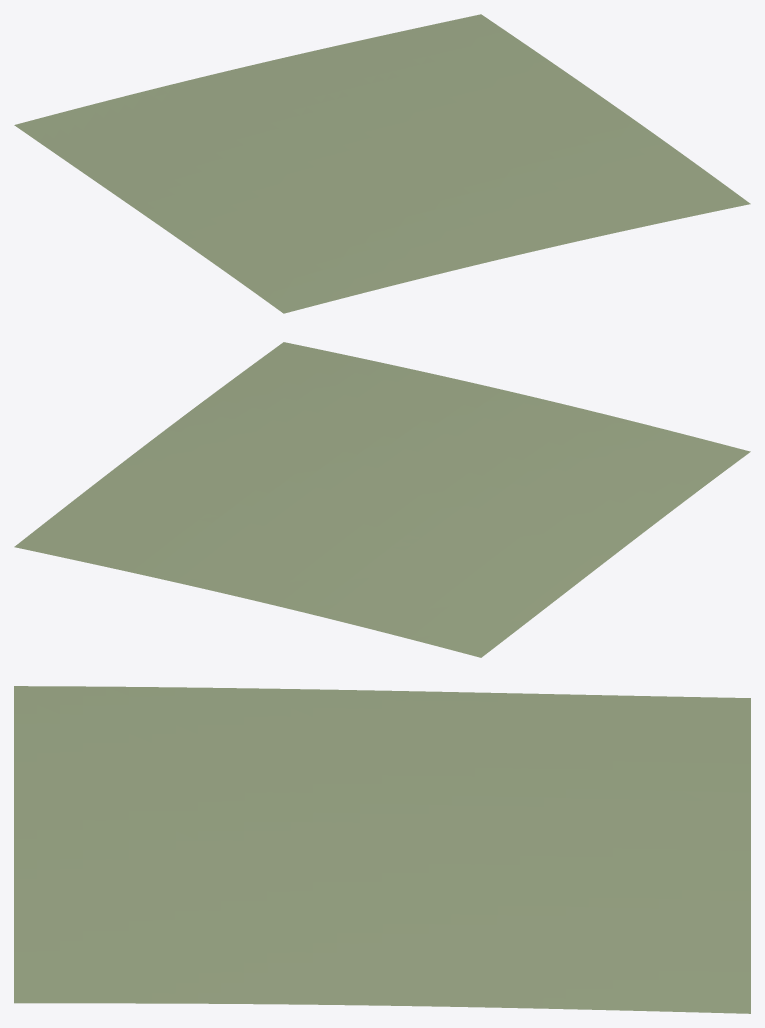
File: expanse-0-26.glb
3 views of the same model, one above another, from view 1: azimuth 30°, elevation 25°; view 2: azimuth 150°, elevation 25°; view 3: azimuth 270°, elevation 25° (orthographic). The views are drawn at different scales.
Parts seen in each view (by area): view 1: expanse-0-26; view 2: expanse-0-26; view 3: expanse-0-26.
Part boxes in pixels (x1,y1,x2,y2): expanse-0-26: (14,14,750,313); expanse-0-26: (14,342,750,657); expanse-0-26: (14,686,750,1013).
Bounding box in the file's own units: 256 × 7.18 × 256.
